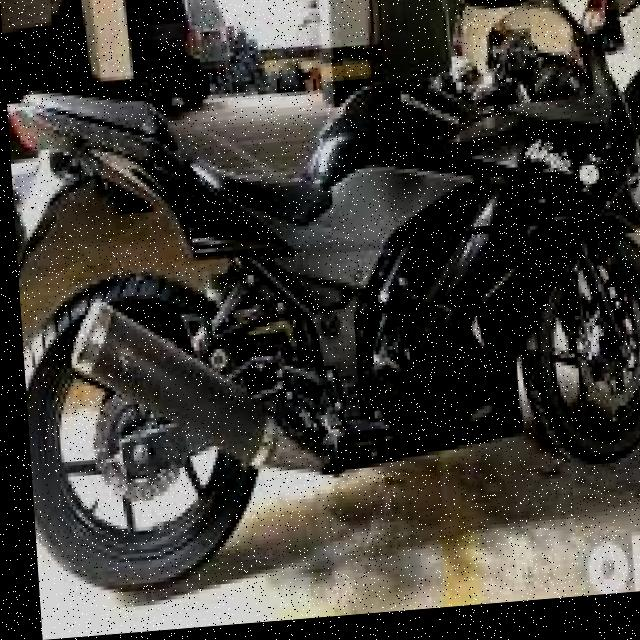bike: (2, 0, 640, 565)
